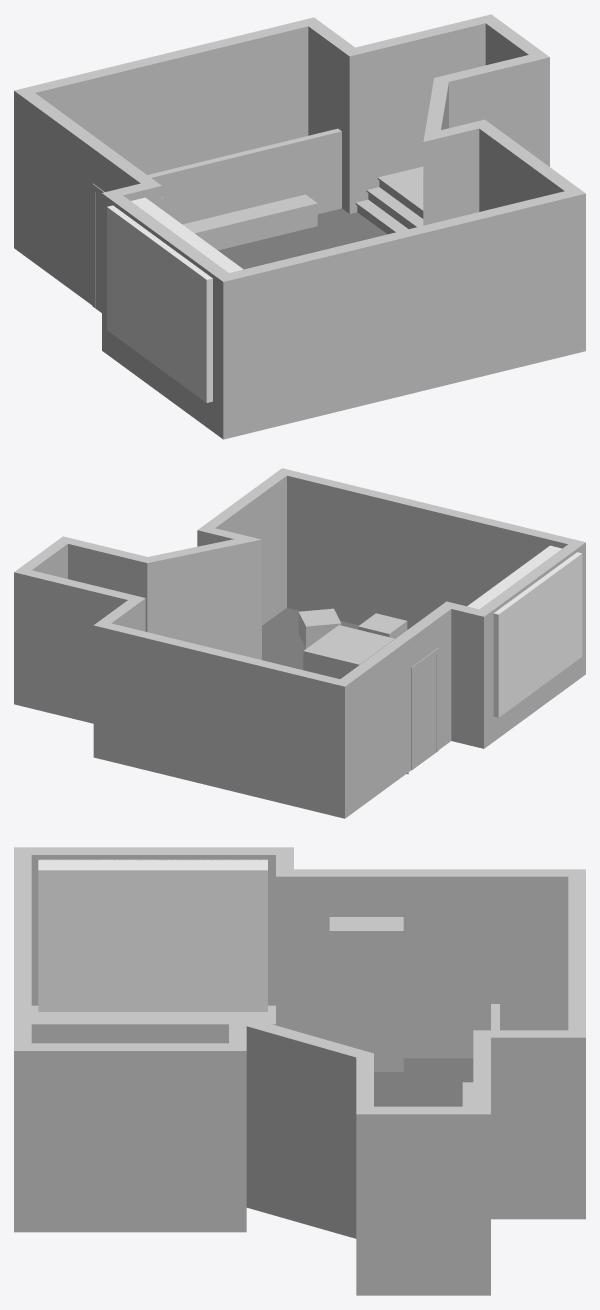
File: map-new.glb
The picture shows the model from 3 angles, top to bottom: view 1: azimuth 30°, elevation 25°; view 2: azimuth 150°, elevation 25°; view 3: azimuth 270°, elevation 25°; orthographic projection. The views are drawn at different scales.
Parts seen in each view (by area): view 1: Room, CTRL_Hole.001, Room.001, Floor, Column.001, Stairs, CTRL_Hole, DoorFrame; view 2: Room, CTRL_Hole.001, Column.006, CTRL_Hole, Floor, Column.003, DoorFrame, Column.005; view 3: Room, CTRL_Hole.001, CTRL_Hole, Column.002, Floor.
Boxes of the visible parts, x1,y1,x2,y2 form: Room: (14,14,585,439); CTRL_Hole.001: (107,197,243,402); Room.001: (147,128,341,224); Floor: (218,208,387,269); Column.001: (182,194,317,250); Stairs: (355,174,423,234); CTRL_Hole: (96,192,163,312); DoorFrame: (92,183,104,308); Room: (14,468,585,818); CTRL_Hole.001: (467,545,582,717); Column.006: (303,625,394,678); CTRL_Hole: (411,655,435,769); Floor: (262,608,358,669); Column.003: (298,608,341,648); DoorFrame: (411,648,438,770); Column.005: (358,613,407,638); Room: (14,847,585,1295); CTRL_Hole.001: (38,859,267,1011); CTRL_Hole: (329,919,403,1071); Column.002: (31,1005,275,1043); Floor: (374,1058,473,1106).
Size of the model in its own units: 8.63 by 2.8 by 7.72.
2 materials, 1 textured.
